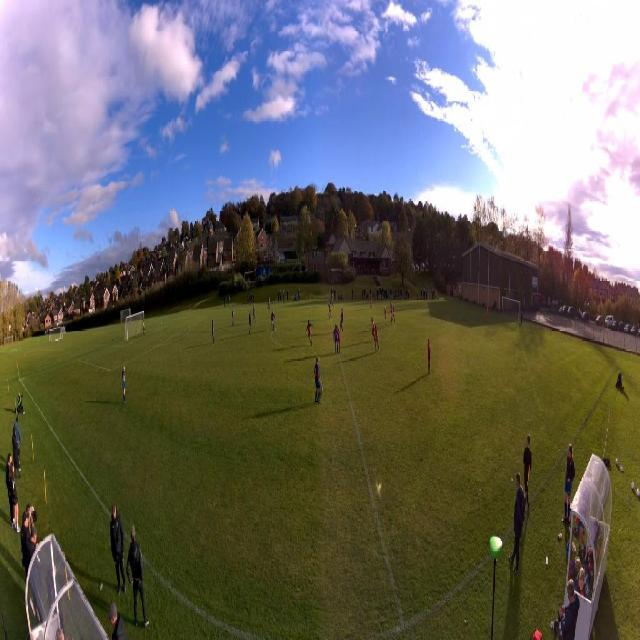ball: (274, 327, 276, 331)
player: (314, 356, 323, 404), (306, 320, 315, 347), (122, 365, 126, 404), (374, 326, 380, 351), (333, 325, 338, 354), (427, 338, 431, 373), (336, 326, 341, 354), (391, 305, 396, 325), (327, 301, 332, 319), (340, 309, 344, 331), (371, 317, 375, 337), (252, 304, 256, 323), (249, 310, 252, 335), (212, 319, 215, 343), (271, 311, 275, 329), (384, 306, 387, 328), (390, 301, 393, 323), (330, 291, 334, 307), (231, 306, 234, 326), (143, 320, 146, 337), (370, 293, 373, 309), (486, 306, 489, 322), (268, 297, 271, 312)
